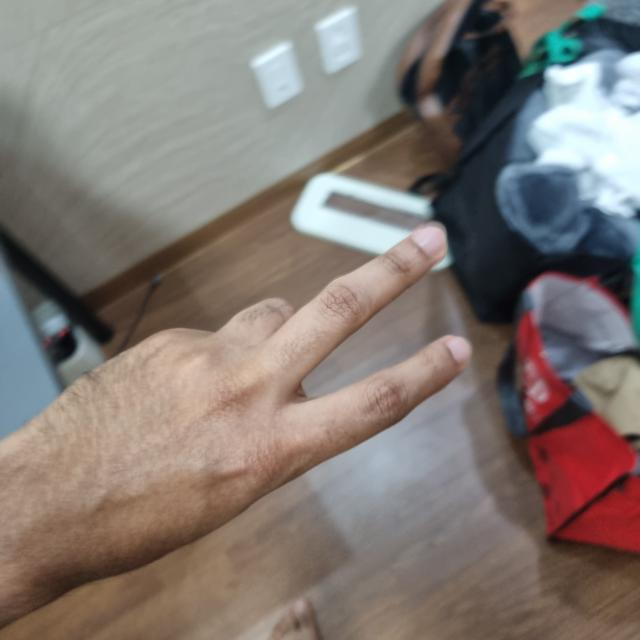Scissors: (0, 234, 466, 638)
